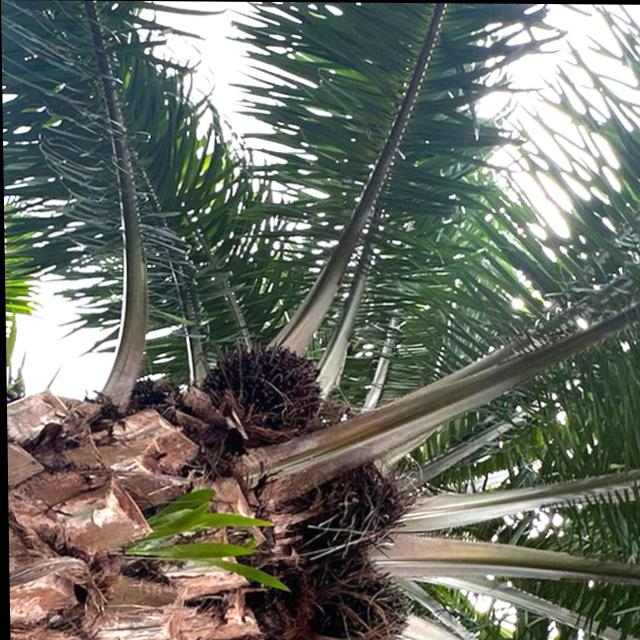almost: (196, 339, 326, 444)
